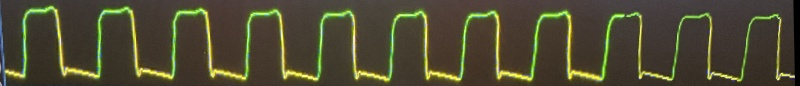normal_pressure: (0, 4, 791, 86)
